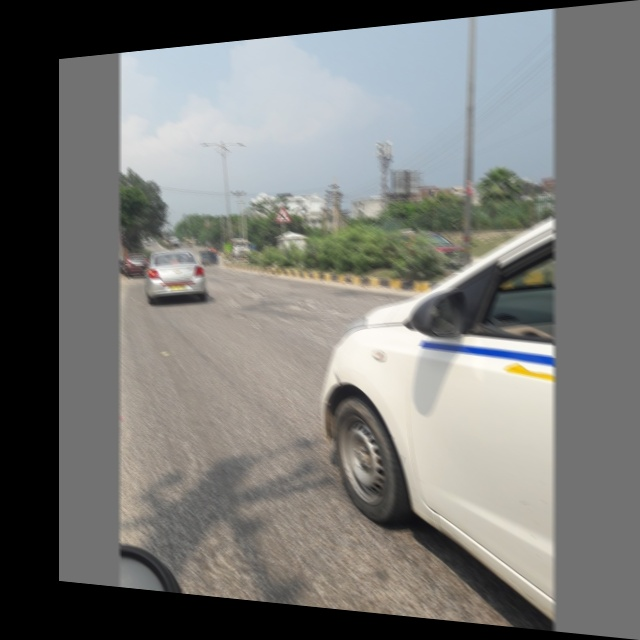Cross_Road: (272, 199, 295, 224)
